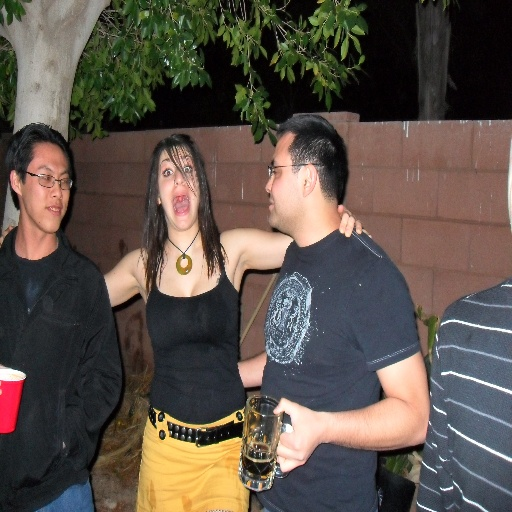hand: (282, 396, 322, 476), (336, 203, 372, 239), (0, 225, 16, 250)
